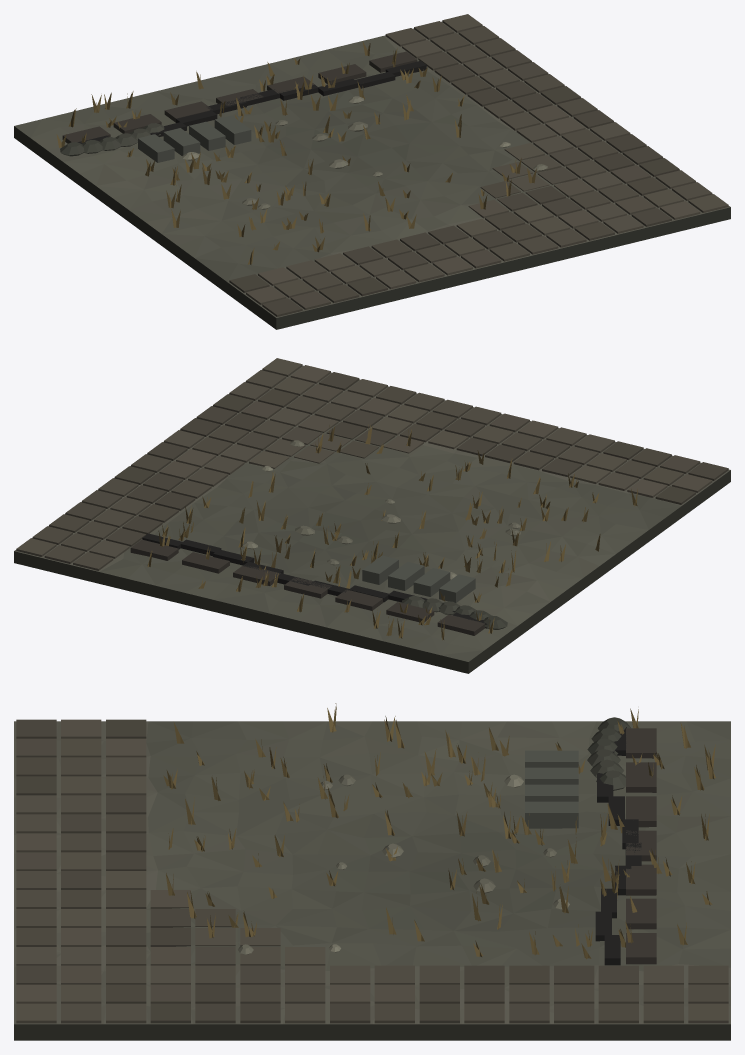
Rendered from CHUNK_oath_battlefield__burnt_field_hospital__00.glb.
The picture shows the model from 3 angles, top to bottom: view 1: azimuth 30°, elevation 25°; view 2: azimuth 150°, elevation 25°; view 3: azimuth 270°, elevation 25°; orthographic projection. The views are drawn at different scales.
Parts seen in each view (by area): view 1: CHUNK_oath_battlefield__burnt_field_hospital__00; view 2: CHUNK_oath_battlefield__burnt_field_hospital__00; view 3: CHUNK_oath_battlefield__burnt_field_hospital__00.
Part boxes in pixels (<box>): CHUNK_oath_battlefield__burnt_field_hospital__00: <box>14,14,730,329</box>; CHUNK_oath_battlefield__burnt_field_hospital__00: <box>14,358,730,673</box>; CHUNK_oath_battlefield__burnt_field_hospital__00: <box>14,703,730,1040</box>.
Bounding box in the file's own units: 8 × 0.5673 × 8.
